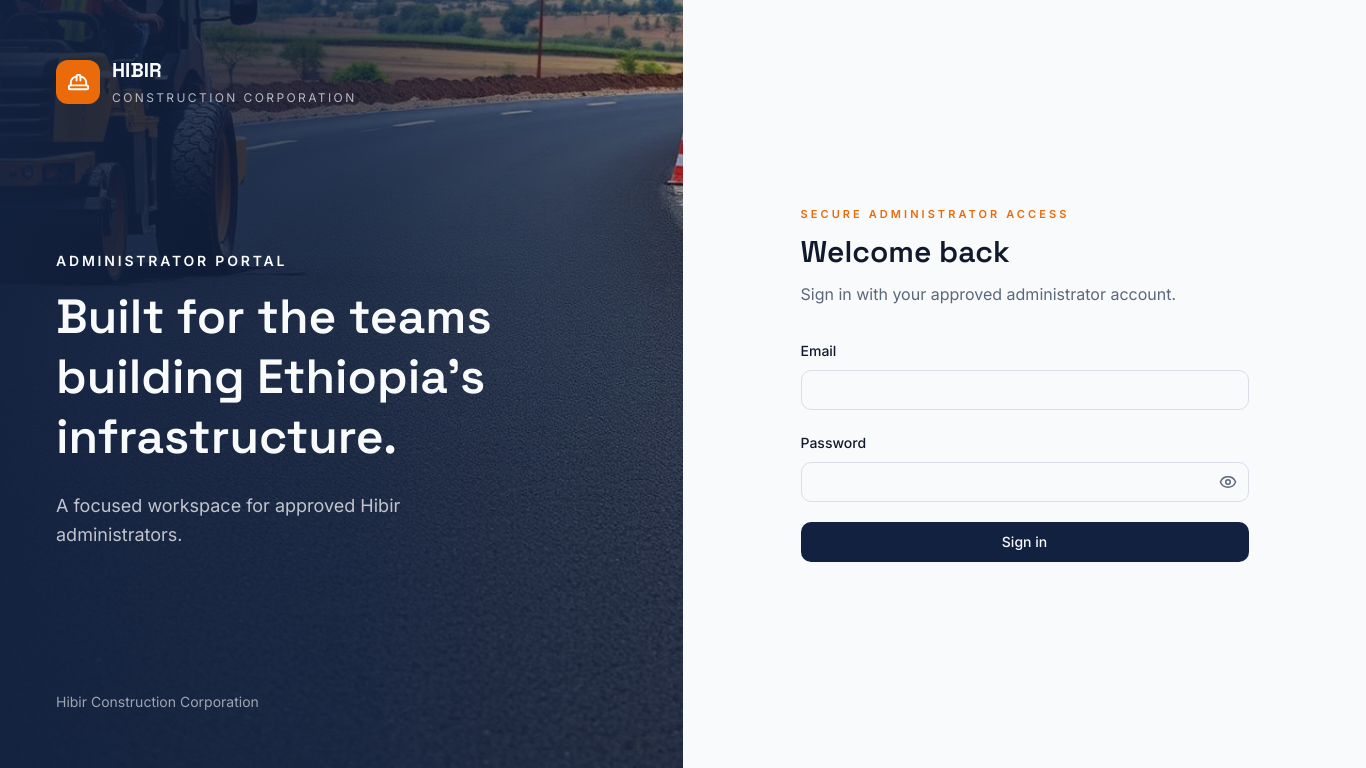
Test: administrator authentication routes › renders the login page and validates credentials before submitting
Expected: the heading "Welcome back" is shown, top-left (800, 232), bottom-right (1010, 271)
Click the button "Sign in".
click(1024, 542)  # box top-left (800, 522), bottom-right (1248, 562)
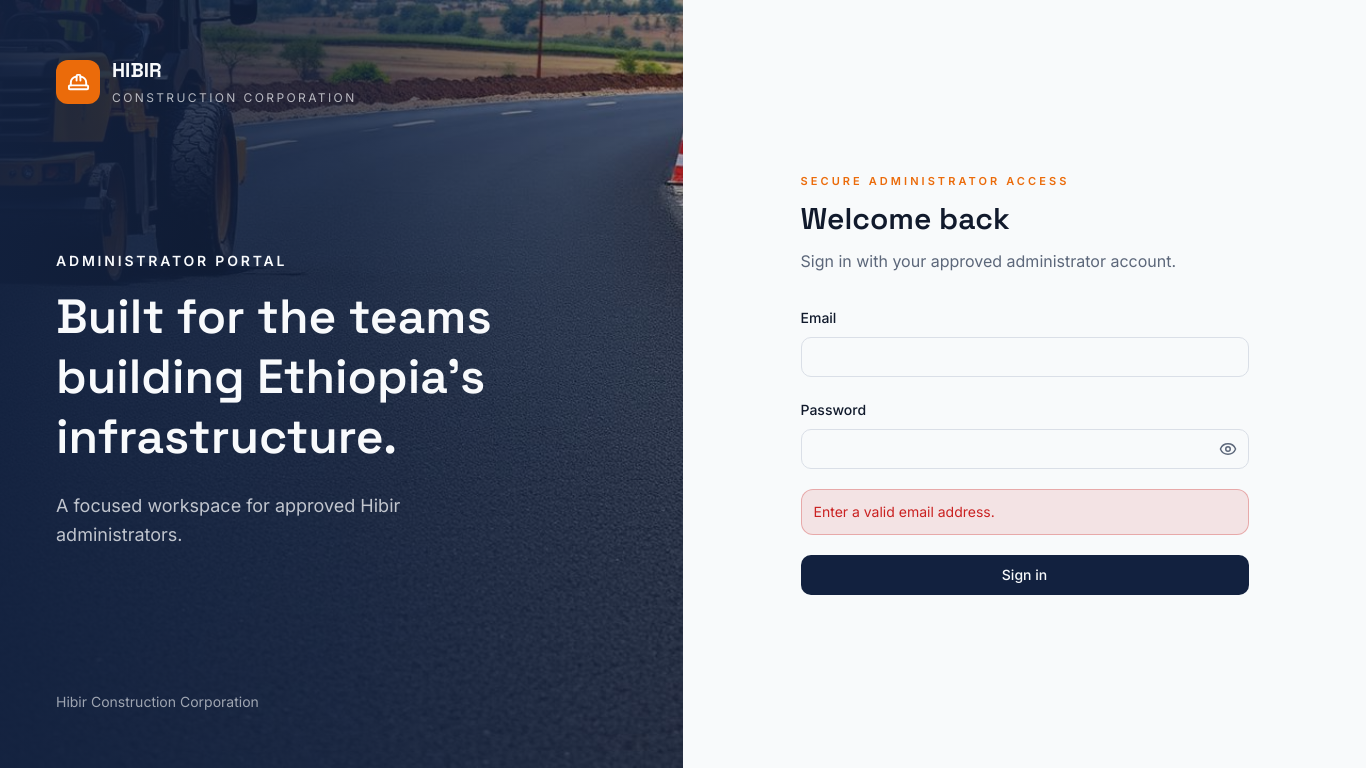
Expected: the message shows "Enter a valid email address", top-left (814, 503), bottom-right (995, 520)
